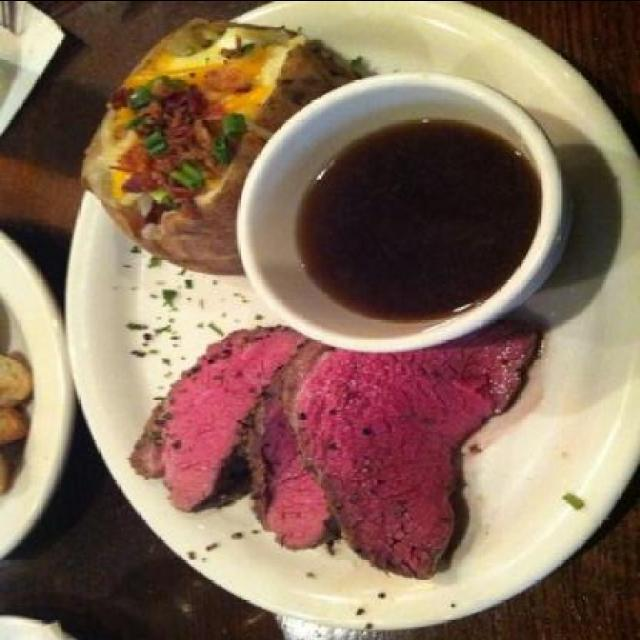Steak: (112, 322, 540, 562)
